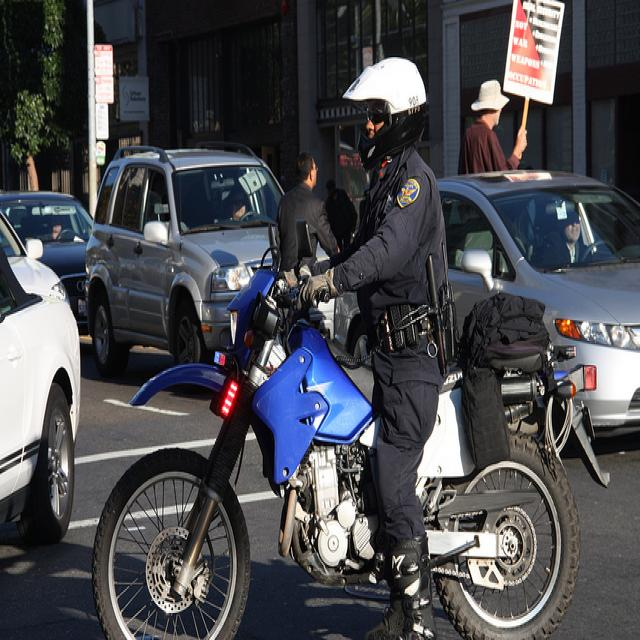motor: (94, 246, 612, 634)
